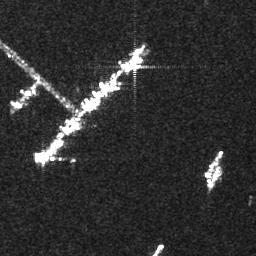ship: (204, 149, 225, 177), (125, 54, 143, 76), (207, 164, 221, 189), (150, 241, 165, 256), (8, 99, 24, 110), (19, 89, 37, 96)
